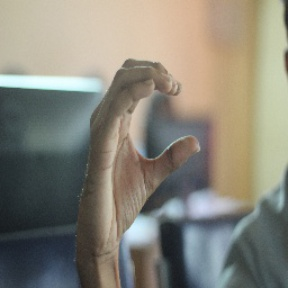C: (86, 54, 205, 179)
